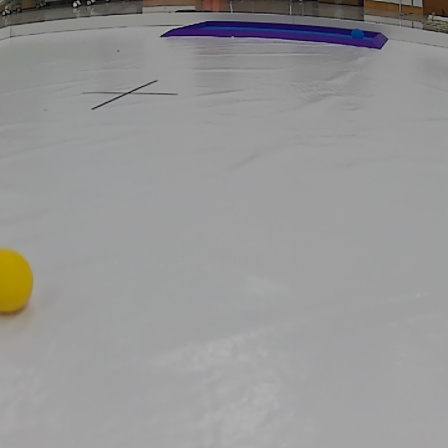blue: (351, 27, 364, 38)
blue_aim: (158, 17, 388, 48)
yellow: (0, 249, 33, 315)
